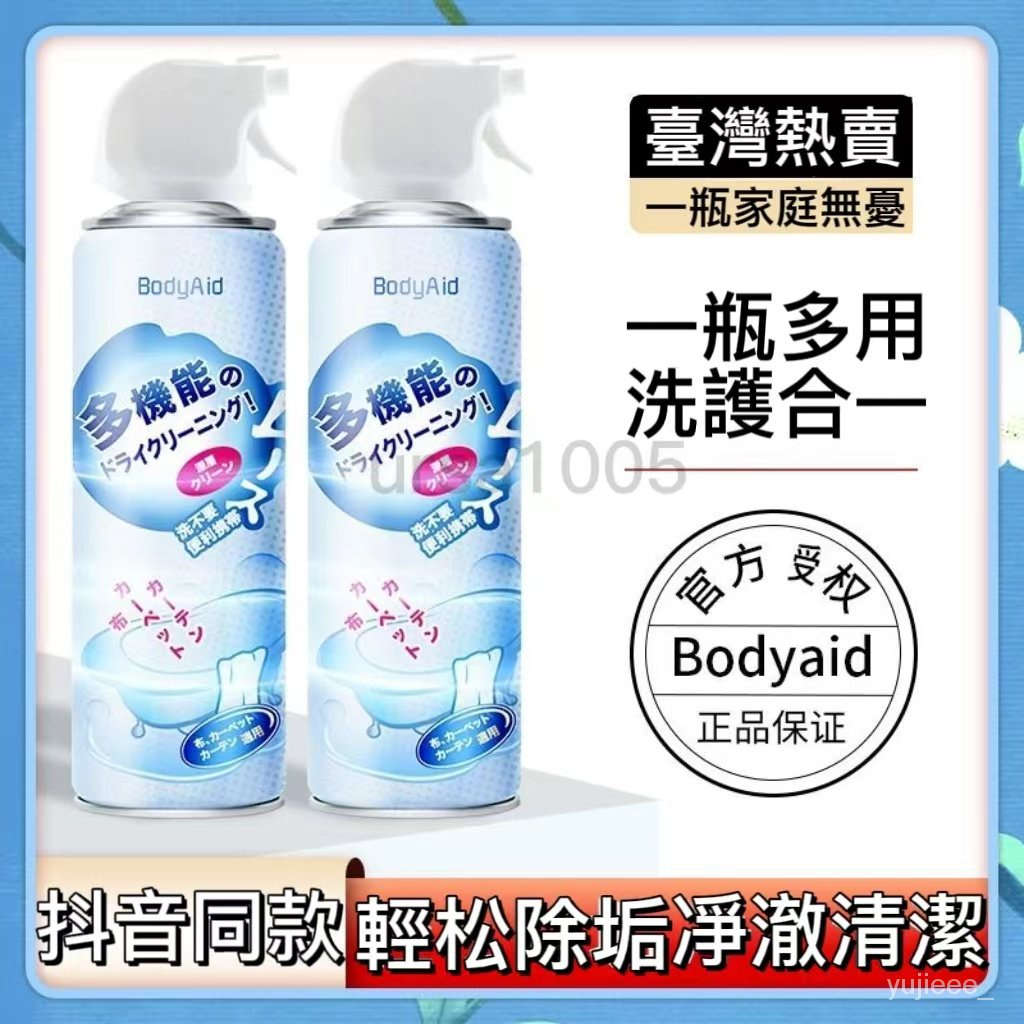cleaner: (302, 52, 556, 810), (60, 51, 299, 813)
